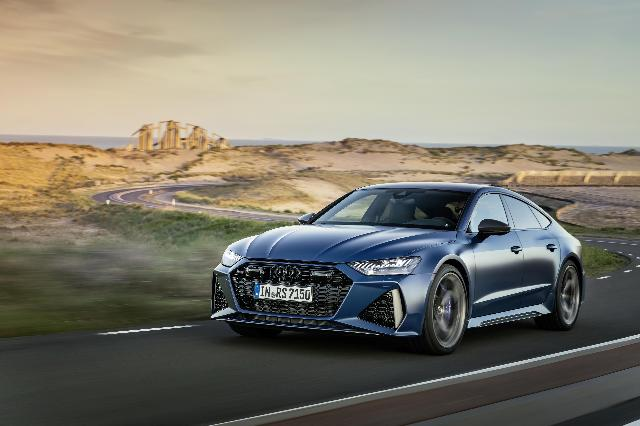audi: (210, 181, 586, 355)
